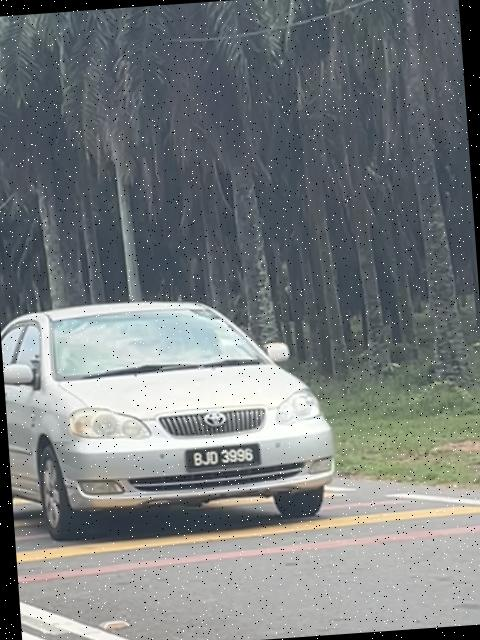License_Plate: (185, 443, 267, 480)
car: (2, 278, 338, 544)
